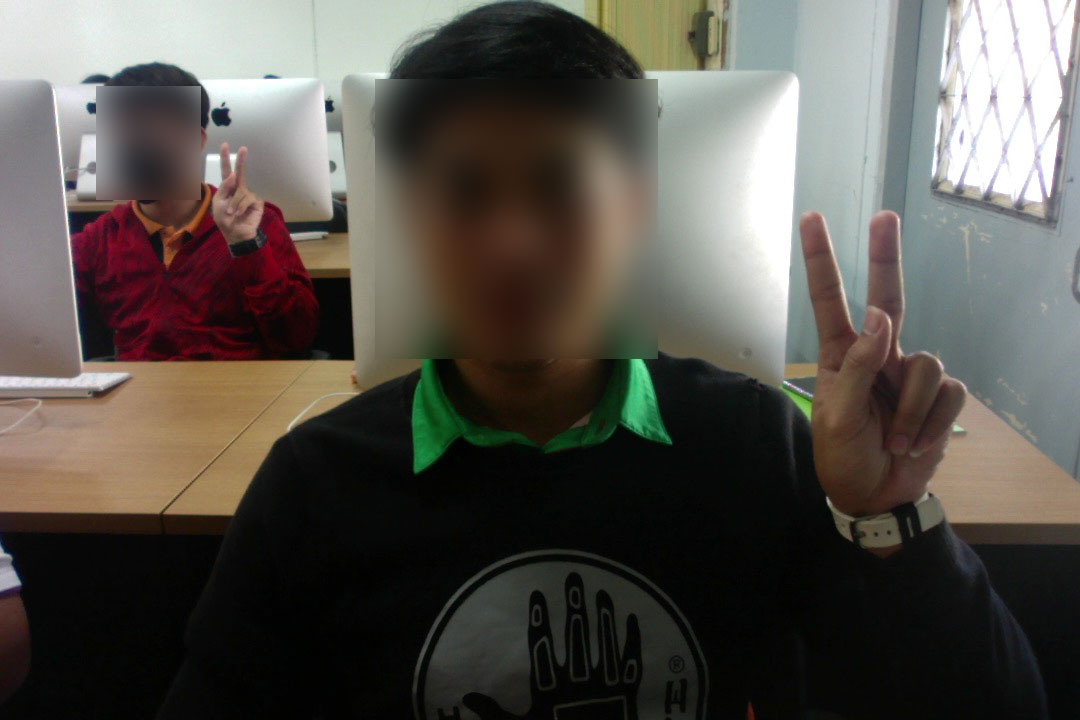ko: (774, 198, 982, 531)
